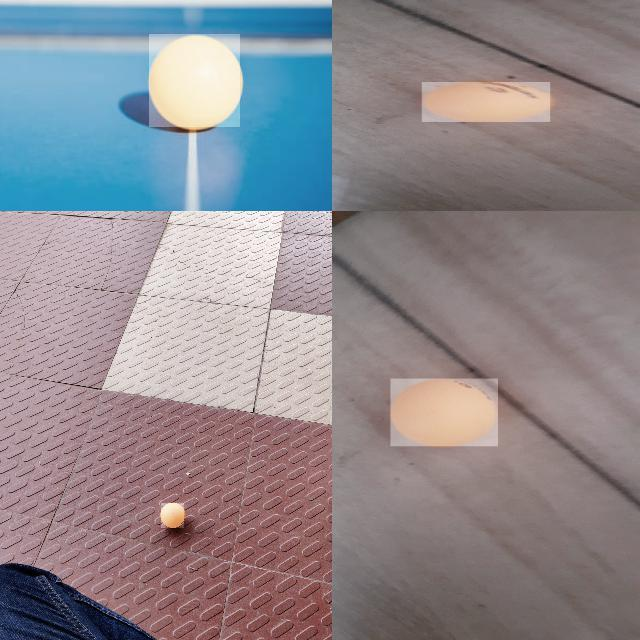ping-pong-ball: (148, 34, 242, 128), (390, 379, 500, 447), (422, 82, 552, 122), (161, 503, 185, 529)
